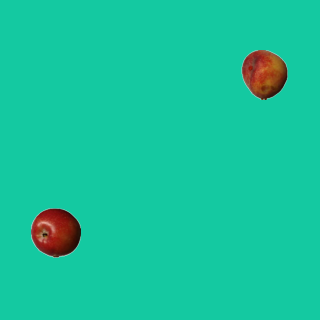Apple Braeburn: (30, 207, 80, 257)
Peach: (239, 49, 289, 99)
